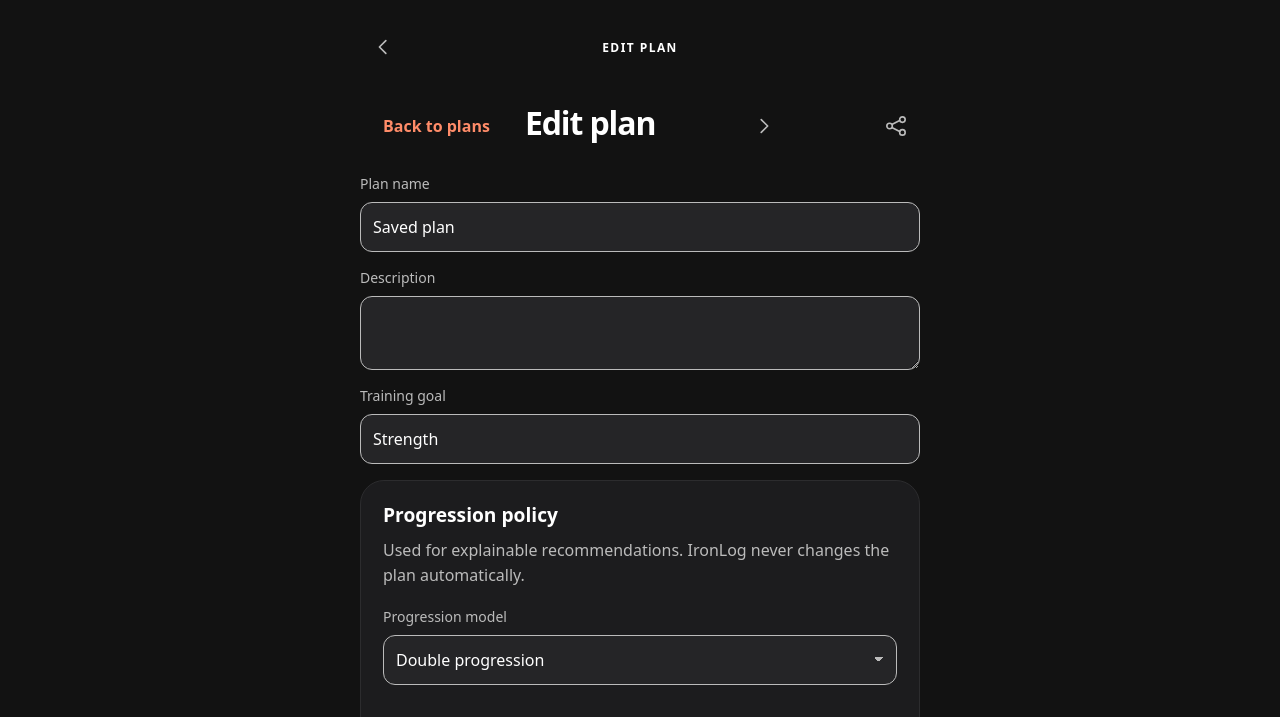
Test case: keeps a dirty plan mounted when the shell Back is requested
Replace the text in the field labelled "Plan name" with "Unsaved name" at x=640, y=227, box [360,202,920,252]
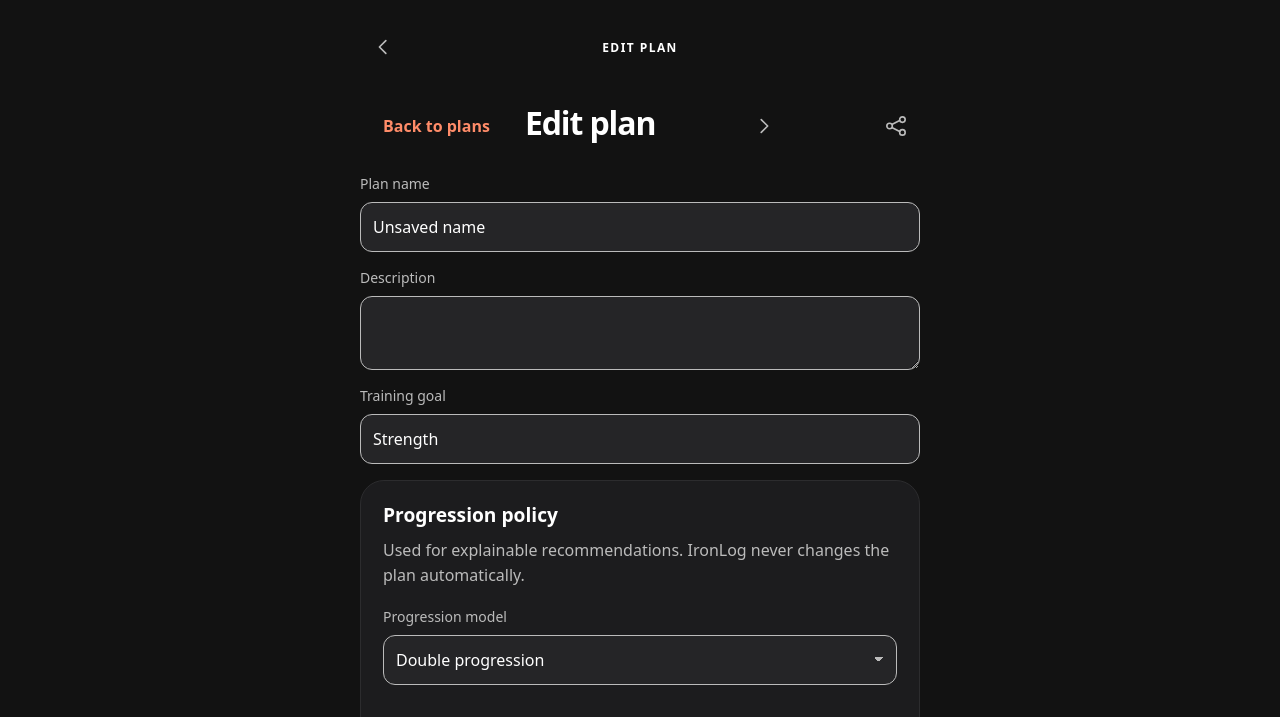
Click the button named "Back".
click(384, 47)  # box [360,23,408,71]
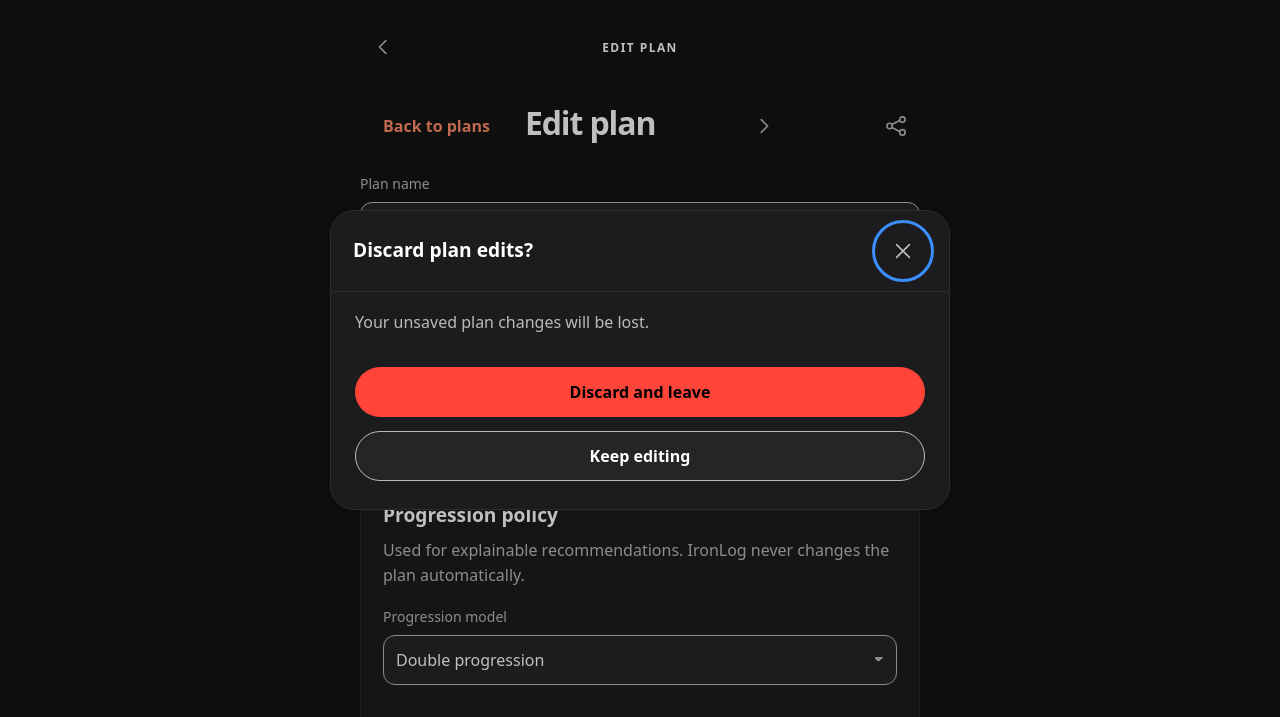
Now the dialog "Discard plan edits?" is shown, box [330,210,950,510]
